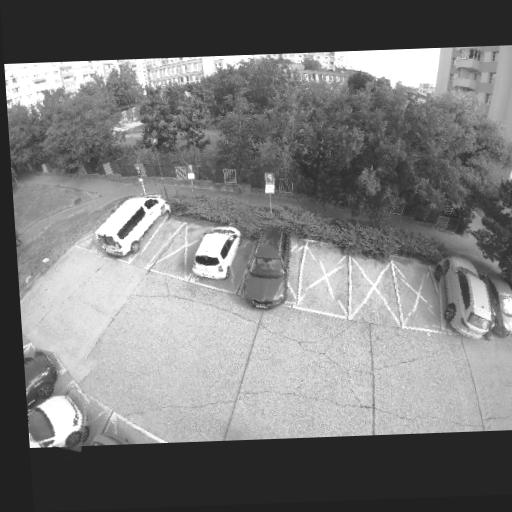busy: (23, 349, 97, 450), (232, 226, 307, 312), (430, 256, 502, 340), (88, 192, 173, 260), (186, 226, 246, 282), (490, 271, 512, 338)
free: (304, 259, 348, 300), (356, 270, 393, 306), (402, 274, 434, 312), (164, 234, 186, 253)
